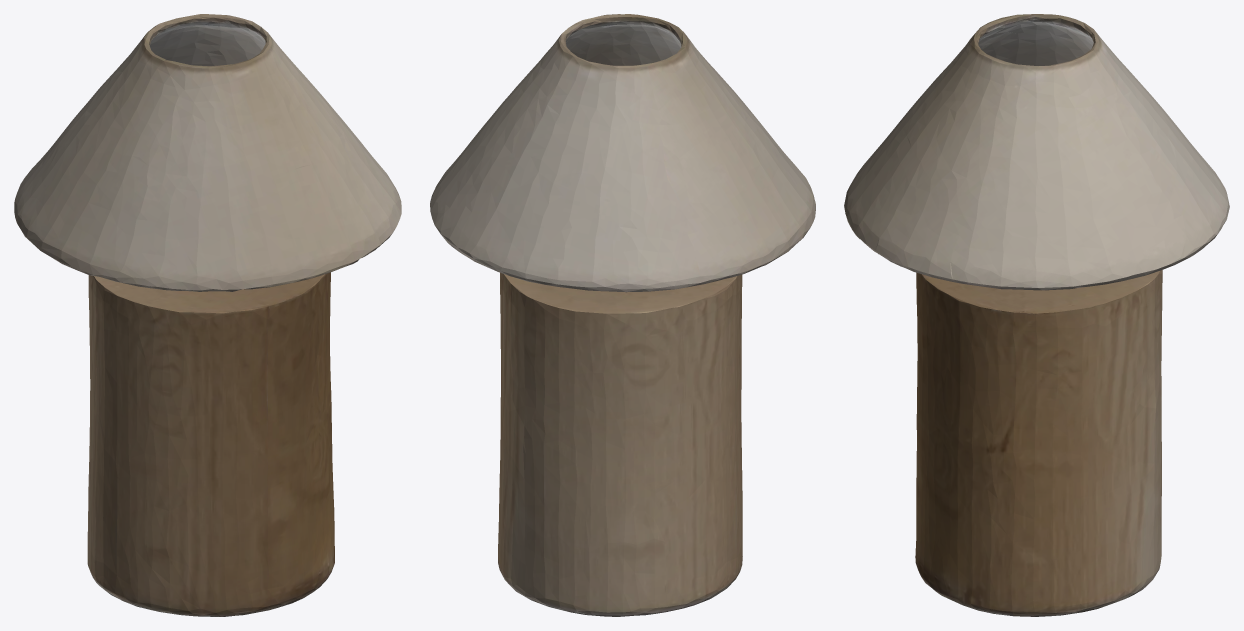
The model's file is ast_7d4063c26a78.glb.
The picture shows the model from 3 angles, left to right: view 1: azimuth 30°, elevation 25°; view 2: azimuth 150°, elevation 25°; view 3: azimuth 270°, elevation 25°; orthographic projection.
Parts seen in each view (by area): view 1: geometry_0; view 2: geometry_0; view 3: geometry_0.
Part boxes in pixels (<box>): geometry_0: <box>14,14,401,616</box>; geometry_0: <box>430,14,815,616</box>; geometry_0: <box>844,14,1229,616</box>.
Size of the model in its own units: 0.4021 by 0.6073 by 0.4036.
Materials: 1 (1 with a texture image).
